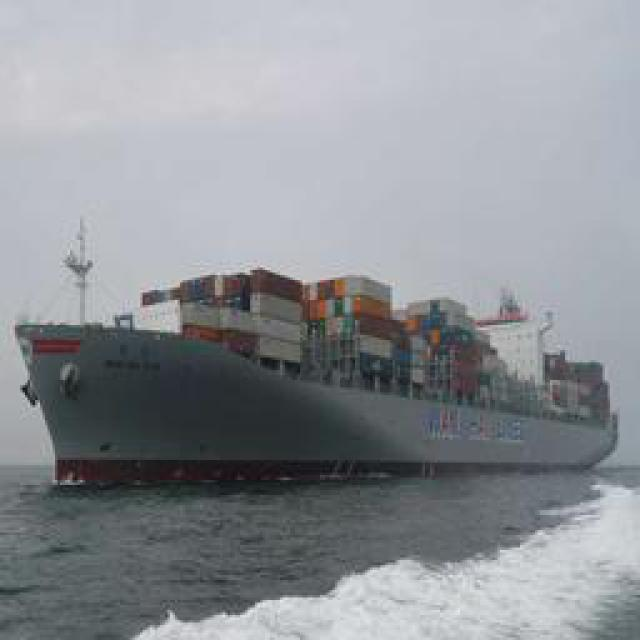Ship: (23, 267, 628, 485)
